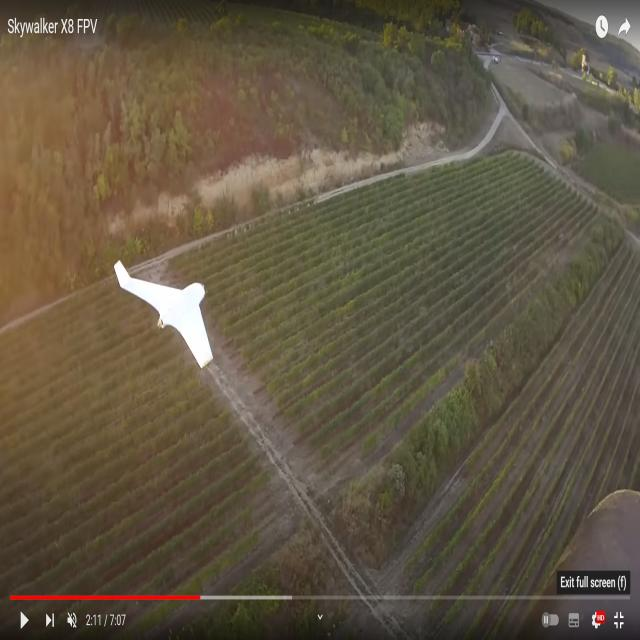iha: (148, 289, 184, 338)
